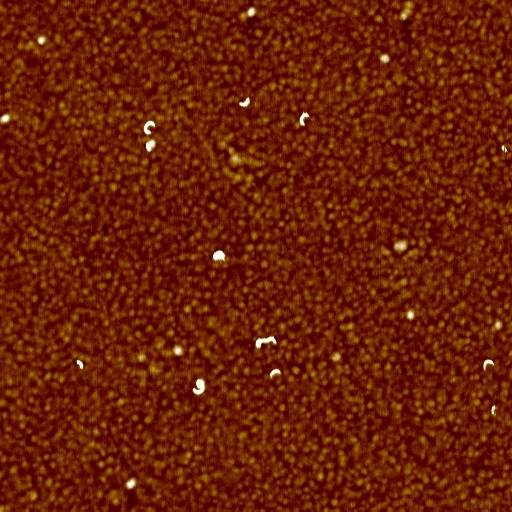-1: (255, 333, 279, 349), (125, 476, 139, 491), (145, 138, 159, 153), (212, 250, 227, 261), (378, 52, 393, 63), (246, 5, 256, 19), (407, 309, 417, 321), (2, 114, 11, 125), (37, 36, 47, 44)
1/4: (267, 366, 282, 381), (238, 95, 253, 108), (488, 403, 499, 418), (74, 358, 86, 371)
2/4: (295, 111, 312, 127), (481, 358, 497, 371)
3/4: (193, 377, 209, 395), (142, 119, 157, 136)
